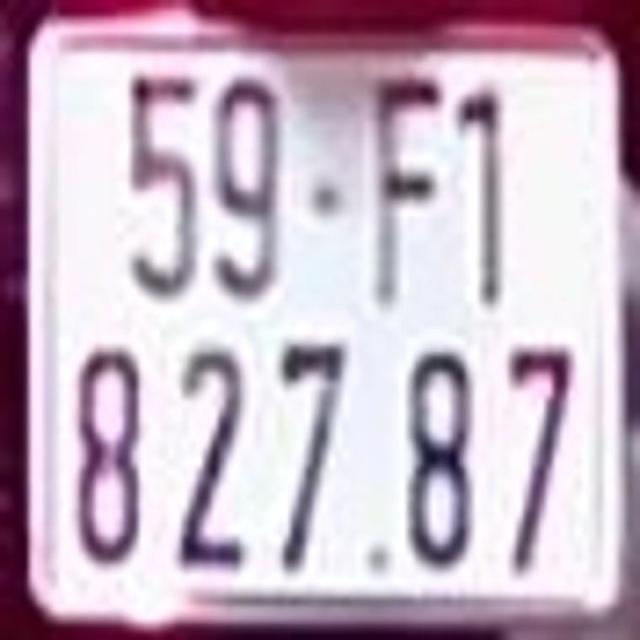1: (454, 75, 509, 307)
2: (176, 341, 248, 570)
5: (124, 67, 202, 298)
7: (276, 333, 347, 573), (505, 339, 575, 574)
8: (405, 343, 475, 568), (76, 346, 142, 565)
9: (208, 65, 284, 301)
F: (371, 67, 446, 304)
